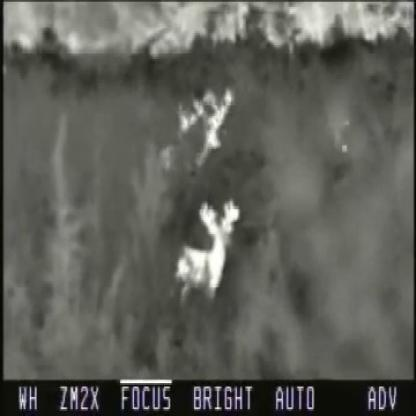rehkitze: (175, 198, 240, 300), (198, 86, 233, 160)
